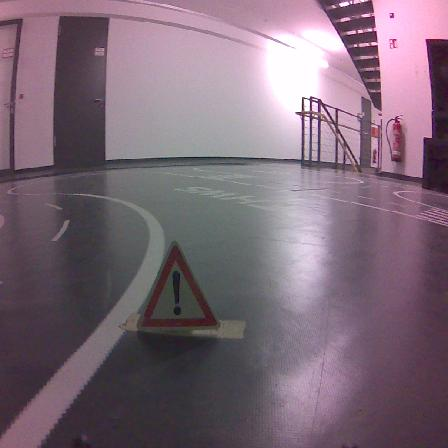ATTENTION: (137, 242, 218, 330)
